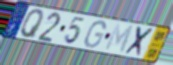2: (36, 11, 62, 45)
5: (63, 16, 88, 45)
G: (83, 20, 107, 49)
M: (103, 22, 135, 55)
Q: (19, 9, 45, 40)
X: (122, 25, 156, 59)
